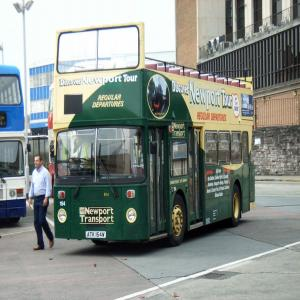Vehicle-registration-plate: (87, 231, 107, 238)
